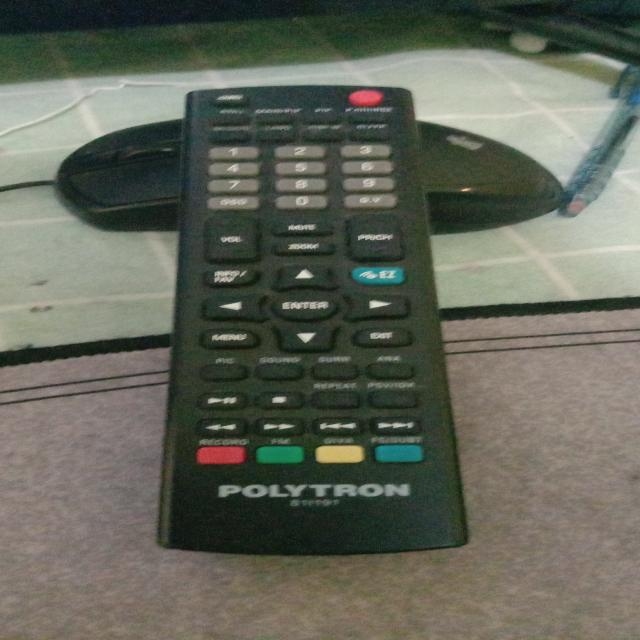remote: (154, 83, 459, 557)
